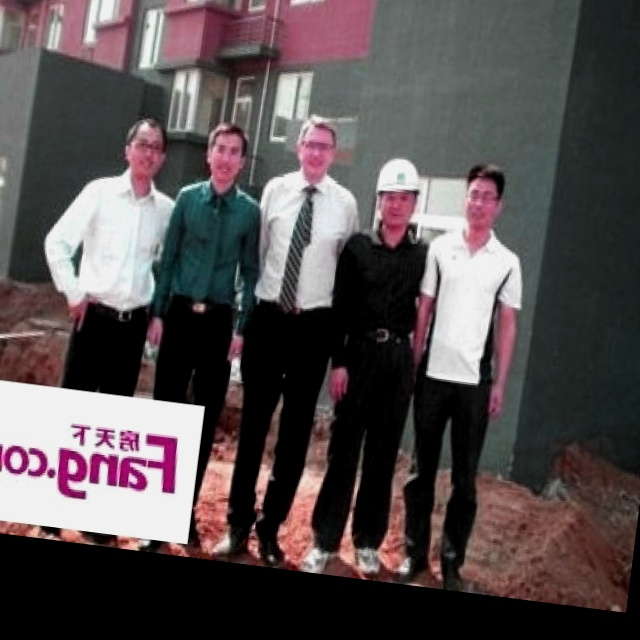Con_Casco: (370, 155, 426, 232)
Sin_Casco_Mascarrilla: (458, 160, 511, 233), (201, 121, 252, 188)
Sin_Chaleco: (407, 228, 520, 398), (248, 168, 358, 310)
